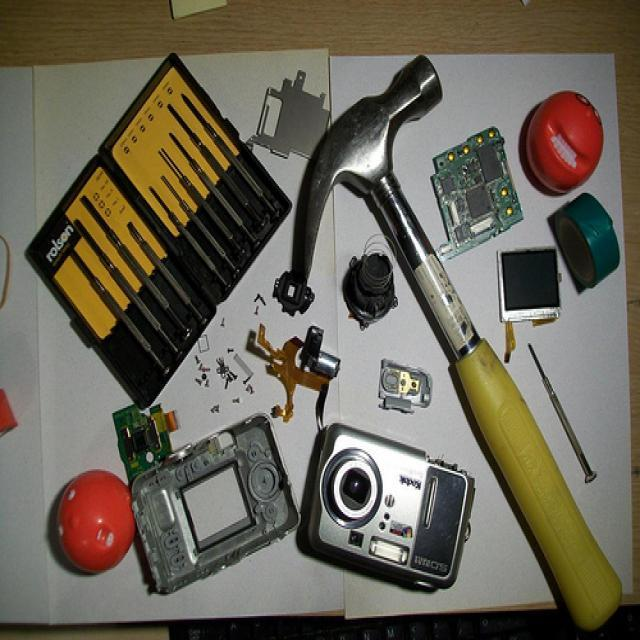hammer: (278, 46, 626, 636)
